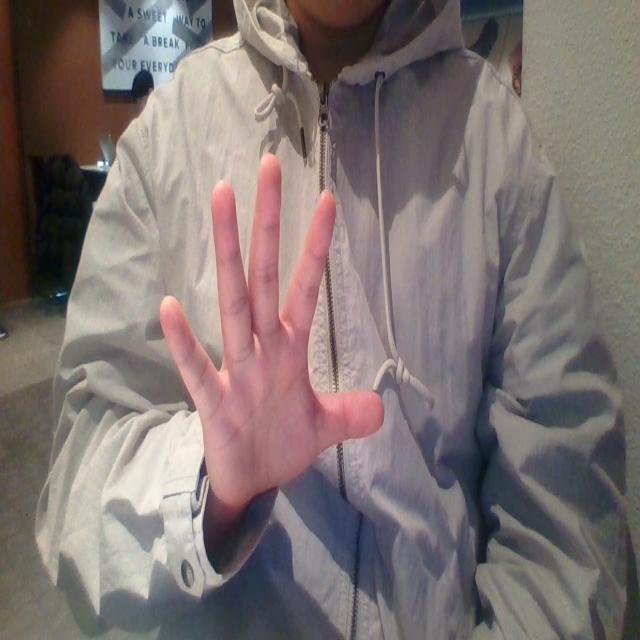hand: (160, 156, 396, 532)
